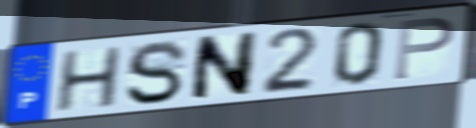0: (330, 20, 387, 88)
2: (262, 27, 321, 97)
H: (52, 44, 124, 114)
N: (188, 29, 261, 104)
P: (391, 15, 457, 83)
S: (123, 39, 190, 107)
